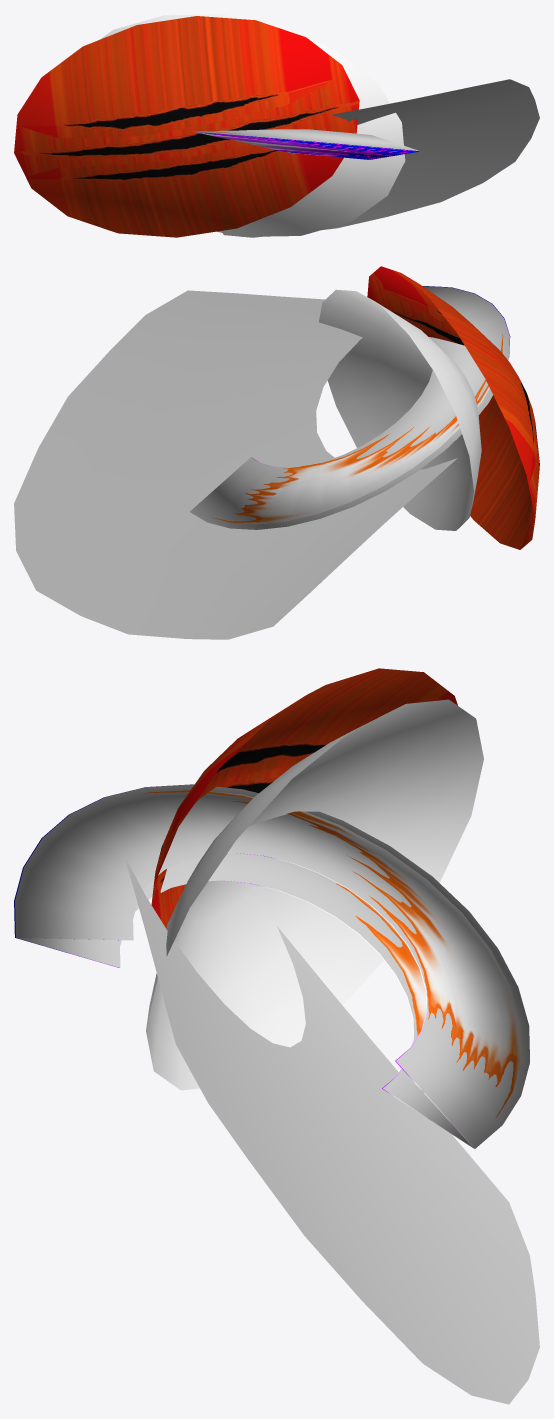
Rendered from fx_cookie0508_skill01.fbx.
3 renders of one model, top to bottom at view 1: azimuth 30°, elevation 25°; view 2: azimuth 150°, elevation 25°; view 3: azimuth 270°, elevation 25°, orthographic. The views are drawn at different scales.
Visible parts, largest first — view 1: hit, wind, hit (1), L_scratch2 (2), L_scratch2 (1); view 2: wind, hit (1), hit, L_scratch2 (1), L_scratch2; view 3: wind, L_scratch2 (1), hit (1), L_scratch2, hit, L_scratch2 (2).
Part boxes in pixels (left/top/right/bottom): hit: left=14, top=16, right=359, bottom=237; wind: left=223, top=79, right=539, bottom=237; hit (1): left=99, top=14, right=405, bottom=236; L_scratch2 (2): left=193, top=131, right=420, bottom=159; L_scratch2 (1): left=195, top=129, right=419, bottom=151; wind: left=14, top=290, right=457, bottom=639; hit (1): left=319, top=289, right=481, bottom=530; hit: left=367, top=266, right=539, bottom=549; L_scratch2 (1): left=190, top=286, right=509, bottom=529; L_scratch2: left=211, top=334, right=503, bottom=524; wind: left=123, top=854, right=539, bottom=1404; L_scratch2 (1): left=15, top=784, right=529, bottom=1148; hit (1): left=146, top=699, right=483, bottom=1090; L_scratch2: left=143, top=790, right=521, bottom=1118; hit: left=151, top=668, right=457, bottom=928; L_scratch2 (2): left=14, top=784, right=474, bottom=1148.
Size of the model in its own units: 1643 by 1001 by 954.
